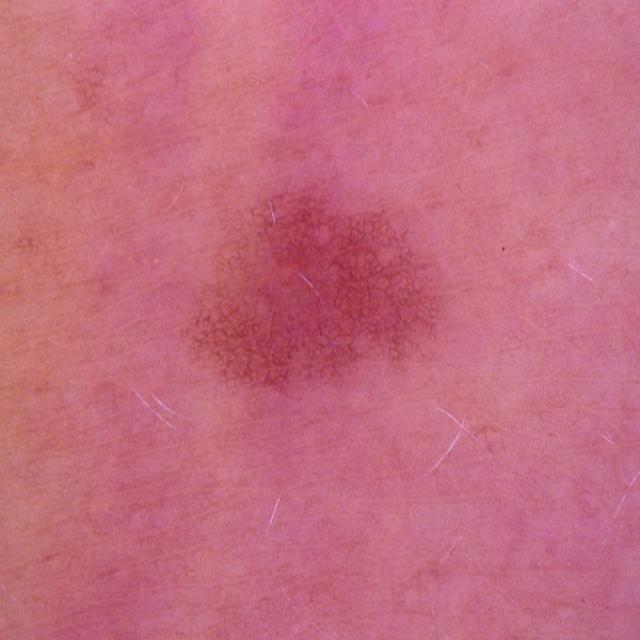NV: (187, 183, 445, 398)
